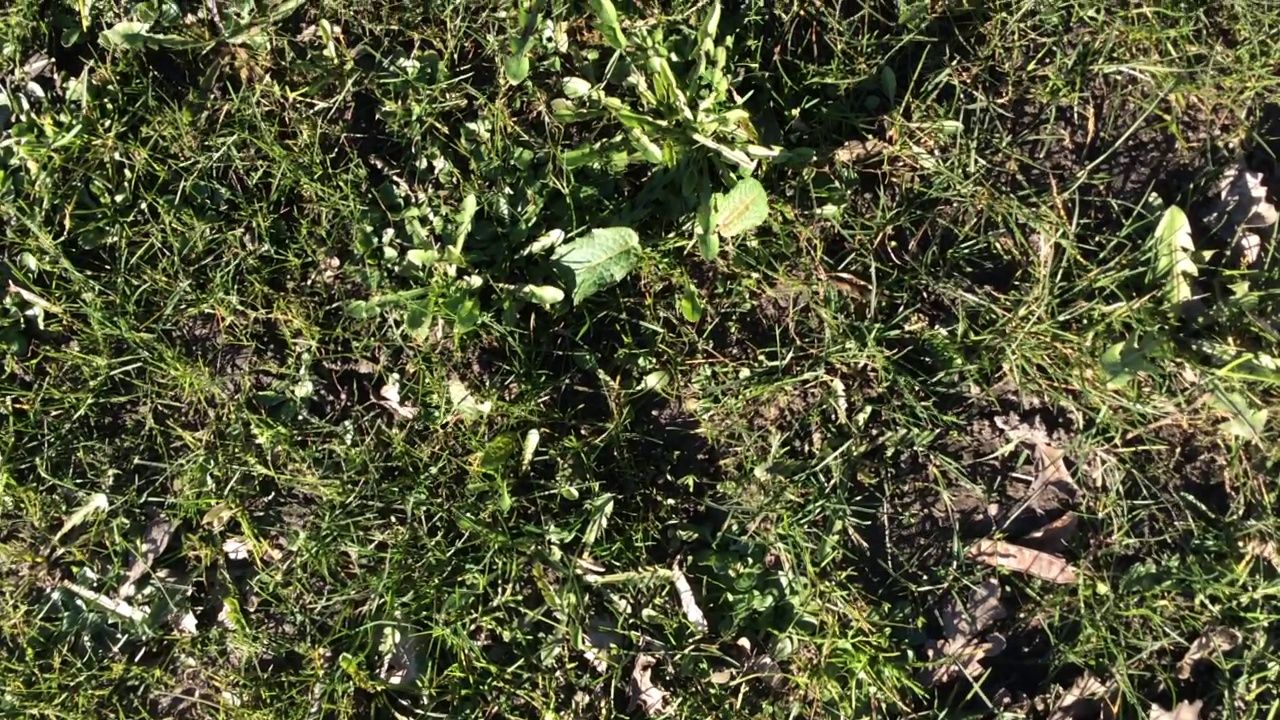rumex: (528, 226, 642, 302), (694, 180, 770, 236)
